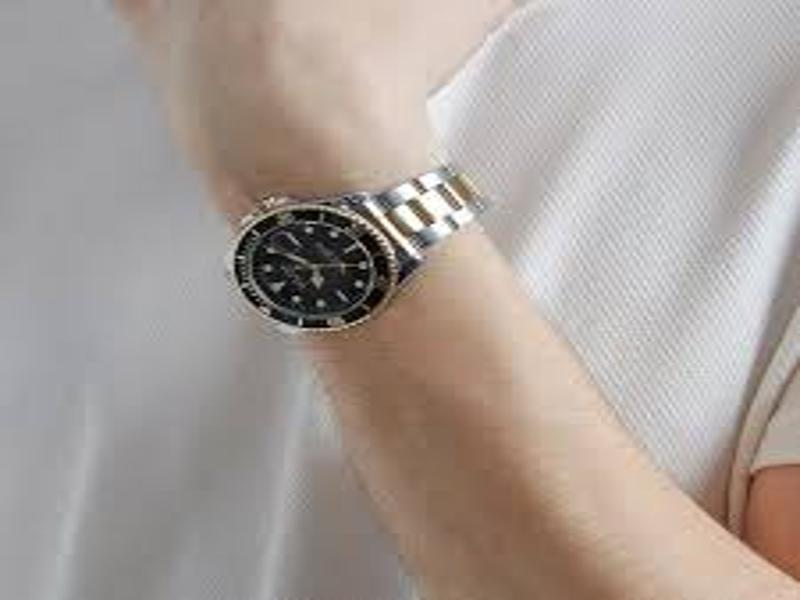watch: (222, 164, 488, 336)
